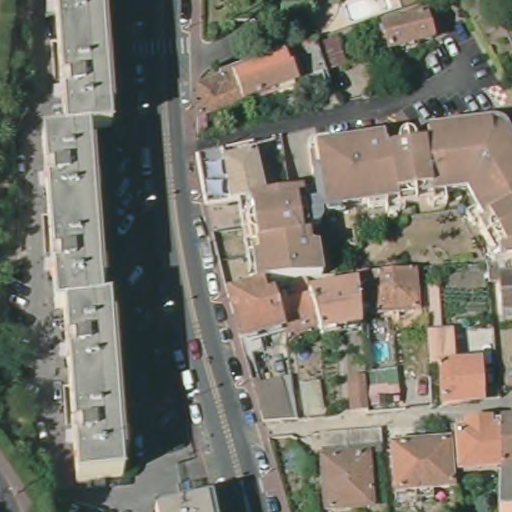pool: (370, 339, 393, 366)
